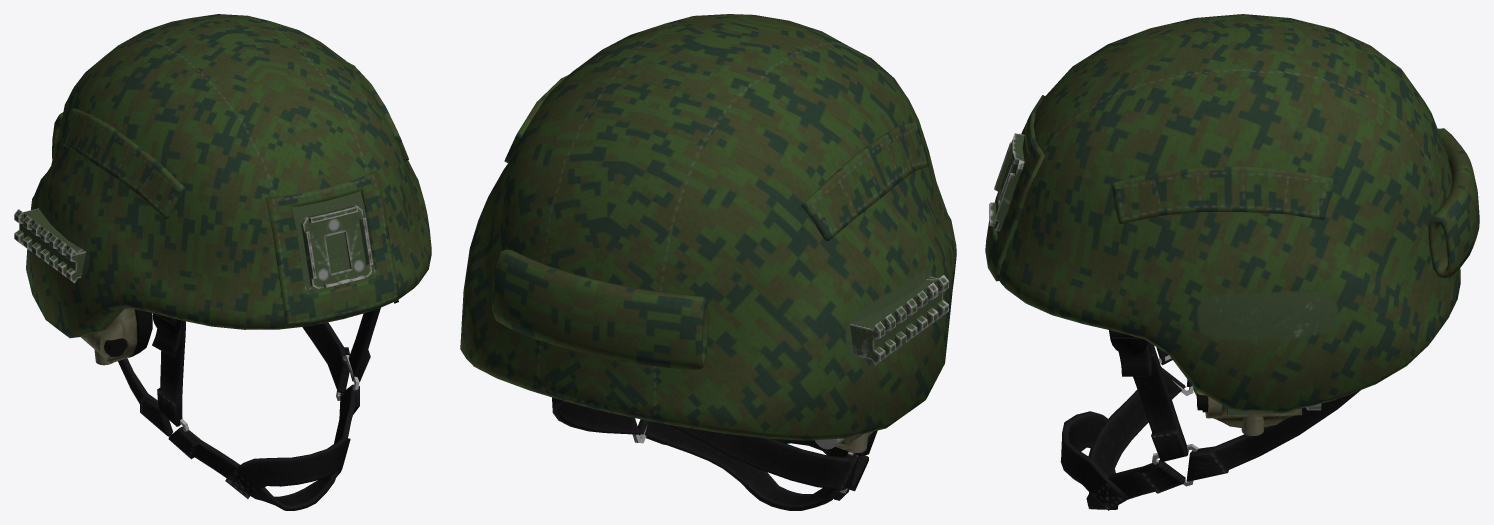
File: helmet_onli.fbx
The picture shows the model from 3 angles, left to right: view 1: azimuth 30°, elevation 25°; view 2: azimuth 150°, elevation 25°; view 3: azimuth 270°, elevation 25°; orthographic projection. The views are drawn at different scales.
Parts seen in each view (by area): view 1: helmet_onli; view 2: helmet_onli; view 3: helmet_onli.
Part boxes in pixels (x1,y1,x2,y2): helmet_onli: (14,14,431,510); helmet_onli: (460,14,956,510); helmet_onli: (985,14,1479,510).
Size of the model in its own units: 0.1672 by 0.1936 by 0.1844.
